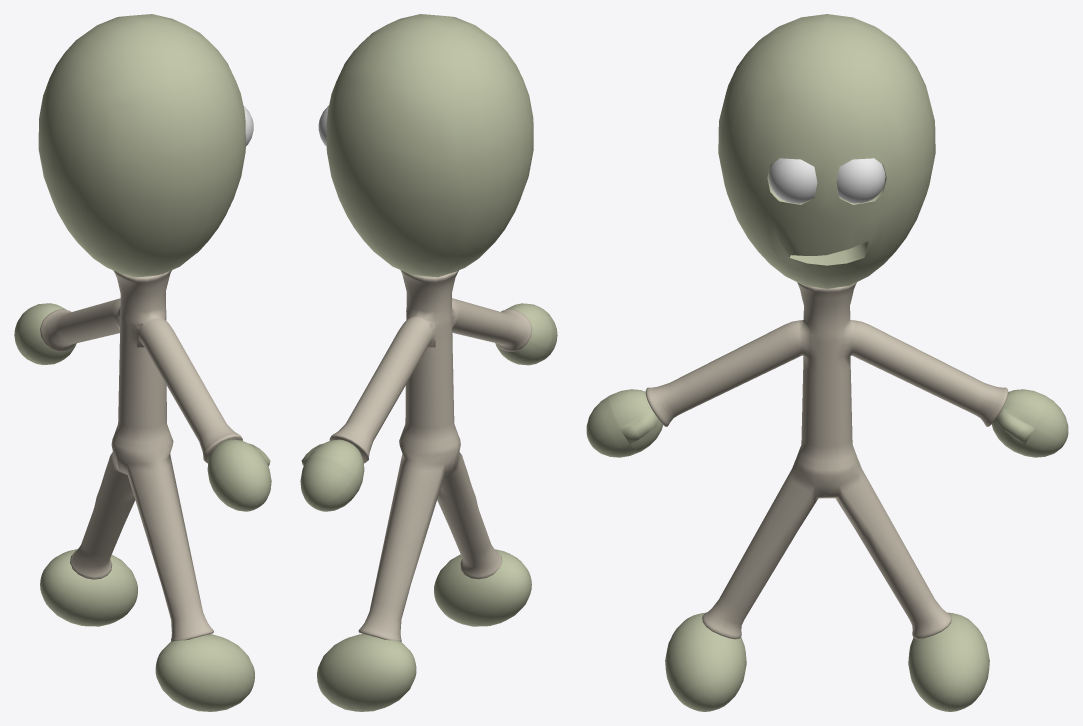
File: Main_Character.fbx
3 views of the same model, side by side, from view 1: azimuth 30°, elevation 25°; view 2: azimuth 150°, elevation 25°; view 3: azimuth 270°, elevation 25° (orthographic). The views are drawn at different scales.
Parts seen in each view (by area): view 1: grape:Sphere_2, grape:Body, grape:Sphere, grape:Sphere_1; view 2: grape:Sphere_2, grape:Body, grape:Sphere, grape:Sphere_1; view 3: grape:Sphere_2, grape:Body, grape:Sphere, grape:Sphere_1, grape:Right_Eye, grape:Left_Eye.
Part boxes in pixels (x1,y1,x2,y2): grape:Sphere_2: (38, 14, 245, 277); grape:Body: (40, 270, 242, 641); grape:Sphere: (40, 549, 254, 711); grape:Sphere_1: (14, 303, 271, 511); grape:Sphere_2: (326, 14, 533, 277); grape:Body: (329, 270, 532, 641); grape:Sphere: (317, 549, 531, 711); grape:Sphere_1: (300, 303, 557, 511); grape:Sphere_2: (718, 14, 935, 288); grape:Body: (645, 282, 1008, 639); grape:Sphere: (665, 612, 989, 711); grape:Sphere_1: (586, 389, 1068, 457); grape:Right_Eye: (836, 158, 885, 203); grape:Left_Eye: (768, 158, 817, 203).
Size of the model in its own units: 163 by 550 by 355.
